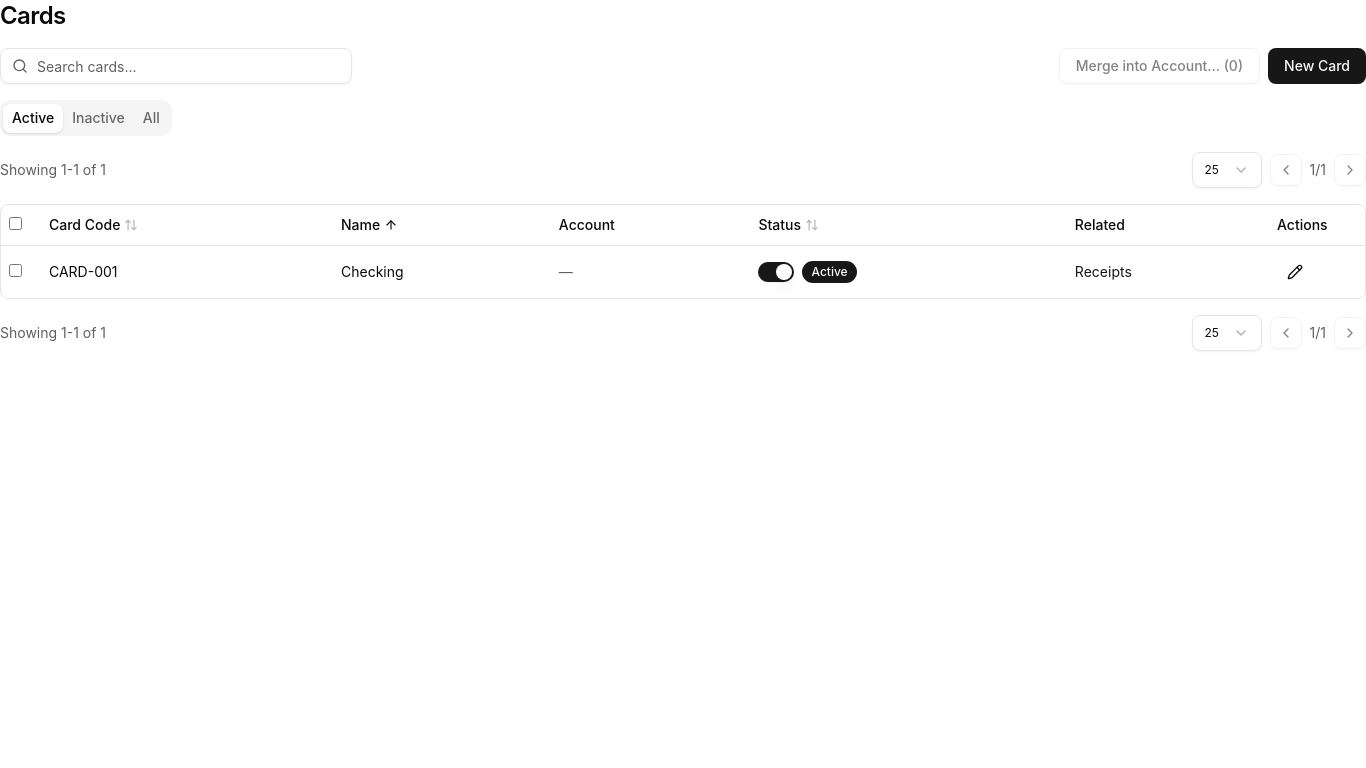
Test: Cards › closes edit dialog when dismissed
Step 1. Click the button named "edit" → (1295, 272), box left=1277, top=254, right=1313, bottom=290
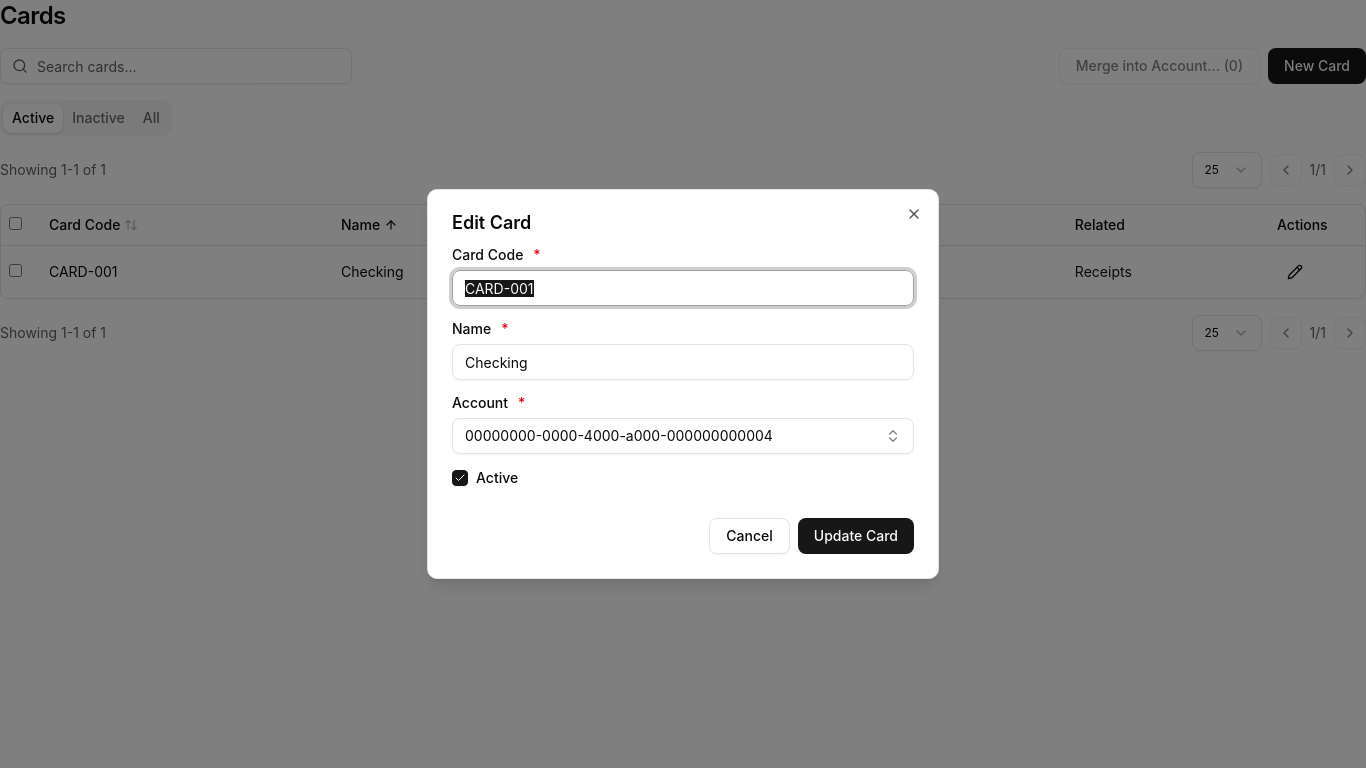
Result: the heading "Edit Card" is shown at left=452, top=212, right=531, bottom=233
Step 2. Press Escape
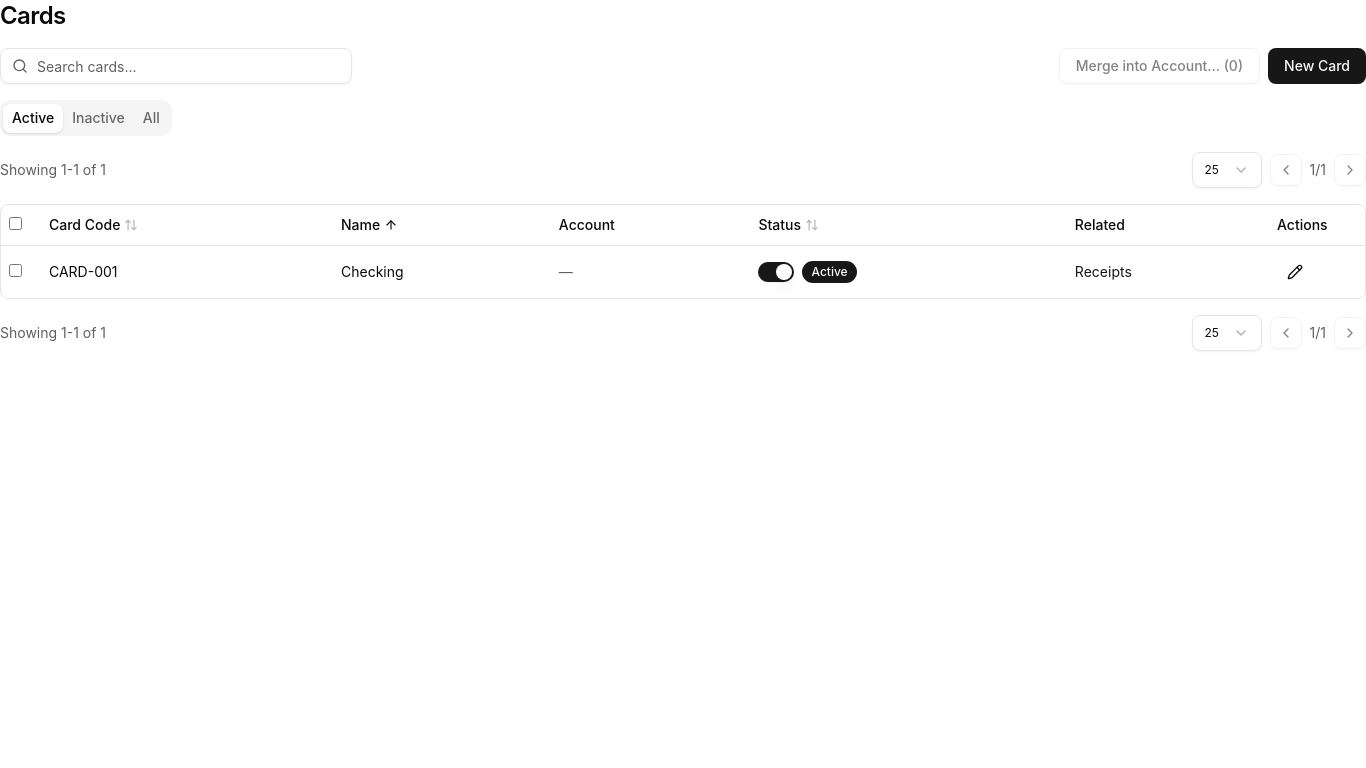
Result: the heading "Edit Card" is gone
